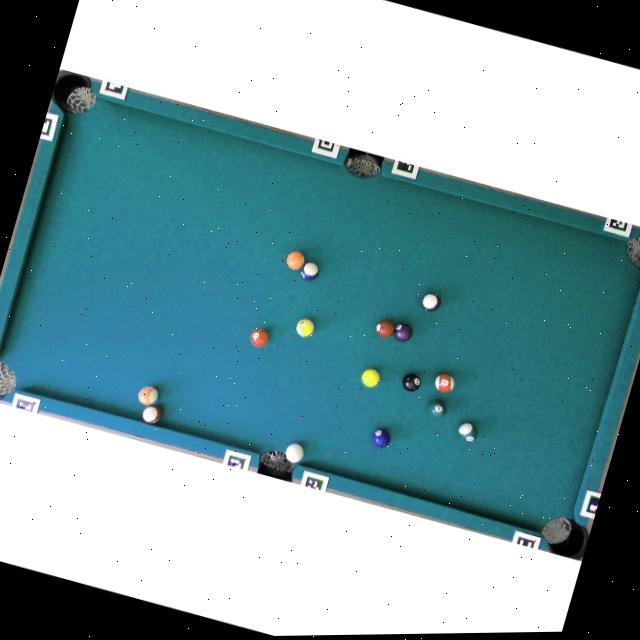cue ball: (283, 441, 305, 464)
other: (454, 419, 480, 444), (432, 371, 456, 396), (358, 365, 382, 390), (140, 402, 164, 426), (247, 325, 271, 349), (136, 383, 160, 407), (369, 426, 392, 450), (293, 315, 316, 339), (284, 248, 306, 272), (373, 317, 396, 339), (298, 260, 320, 283), (399, 371, 422, 393), (392, 321, 414, 343), (426, 399, 448, 421), (420, 291, 442, 313)
